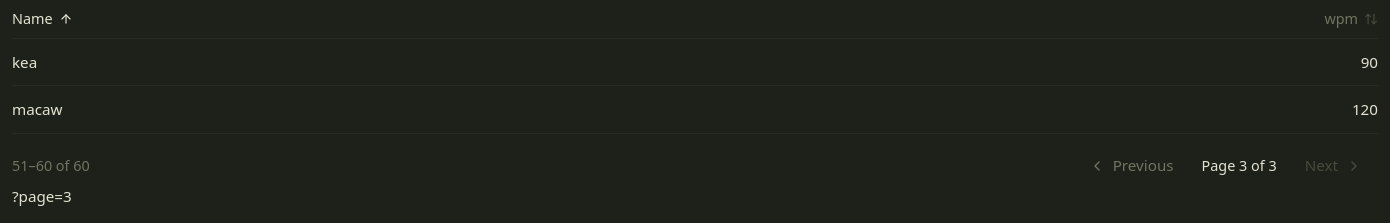
Scenario: DataTable sorting and pagination › goes back to the first page when the sort changes
Click the button "wpm" at [1351, 19], box [1324, 8, 1378, 30]
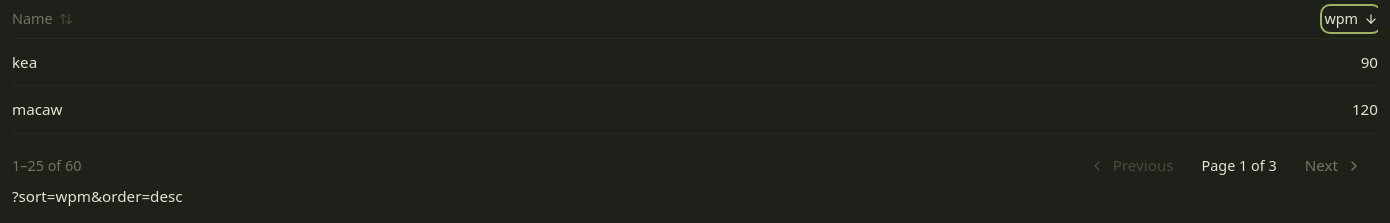
Expected: the text with test id "url" no longer shows "page="
